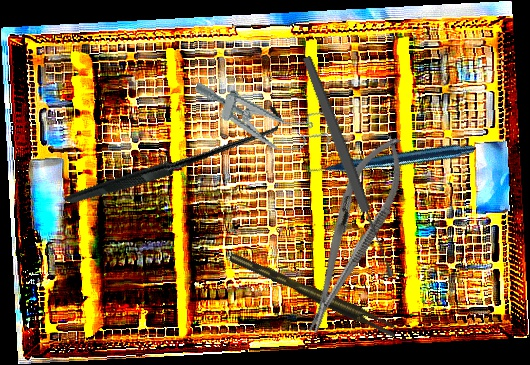Handpiece: (301, 77, 476, 237)
Hook Surgical: (64, 49, 285, 263)
Needle Holder: (286, 127, 419, 342)
Speculum: (185, 70, 342, 166)
Surgical Spoon: (299, 54, 398, 280)
Tissue Forceps: (228, 243, 400, 344)
